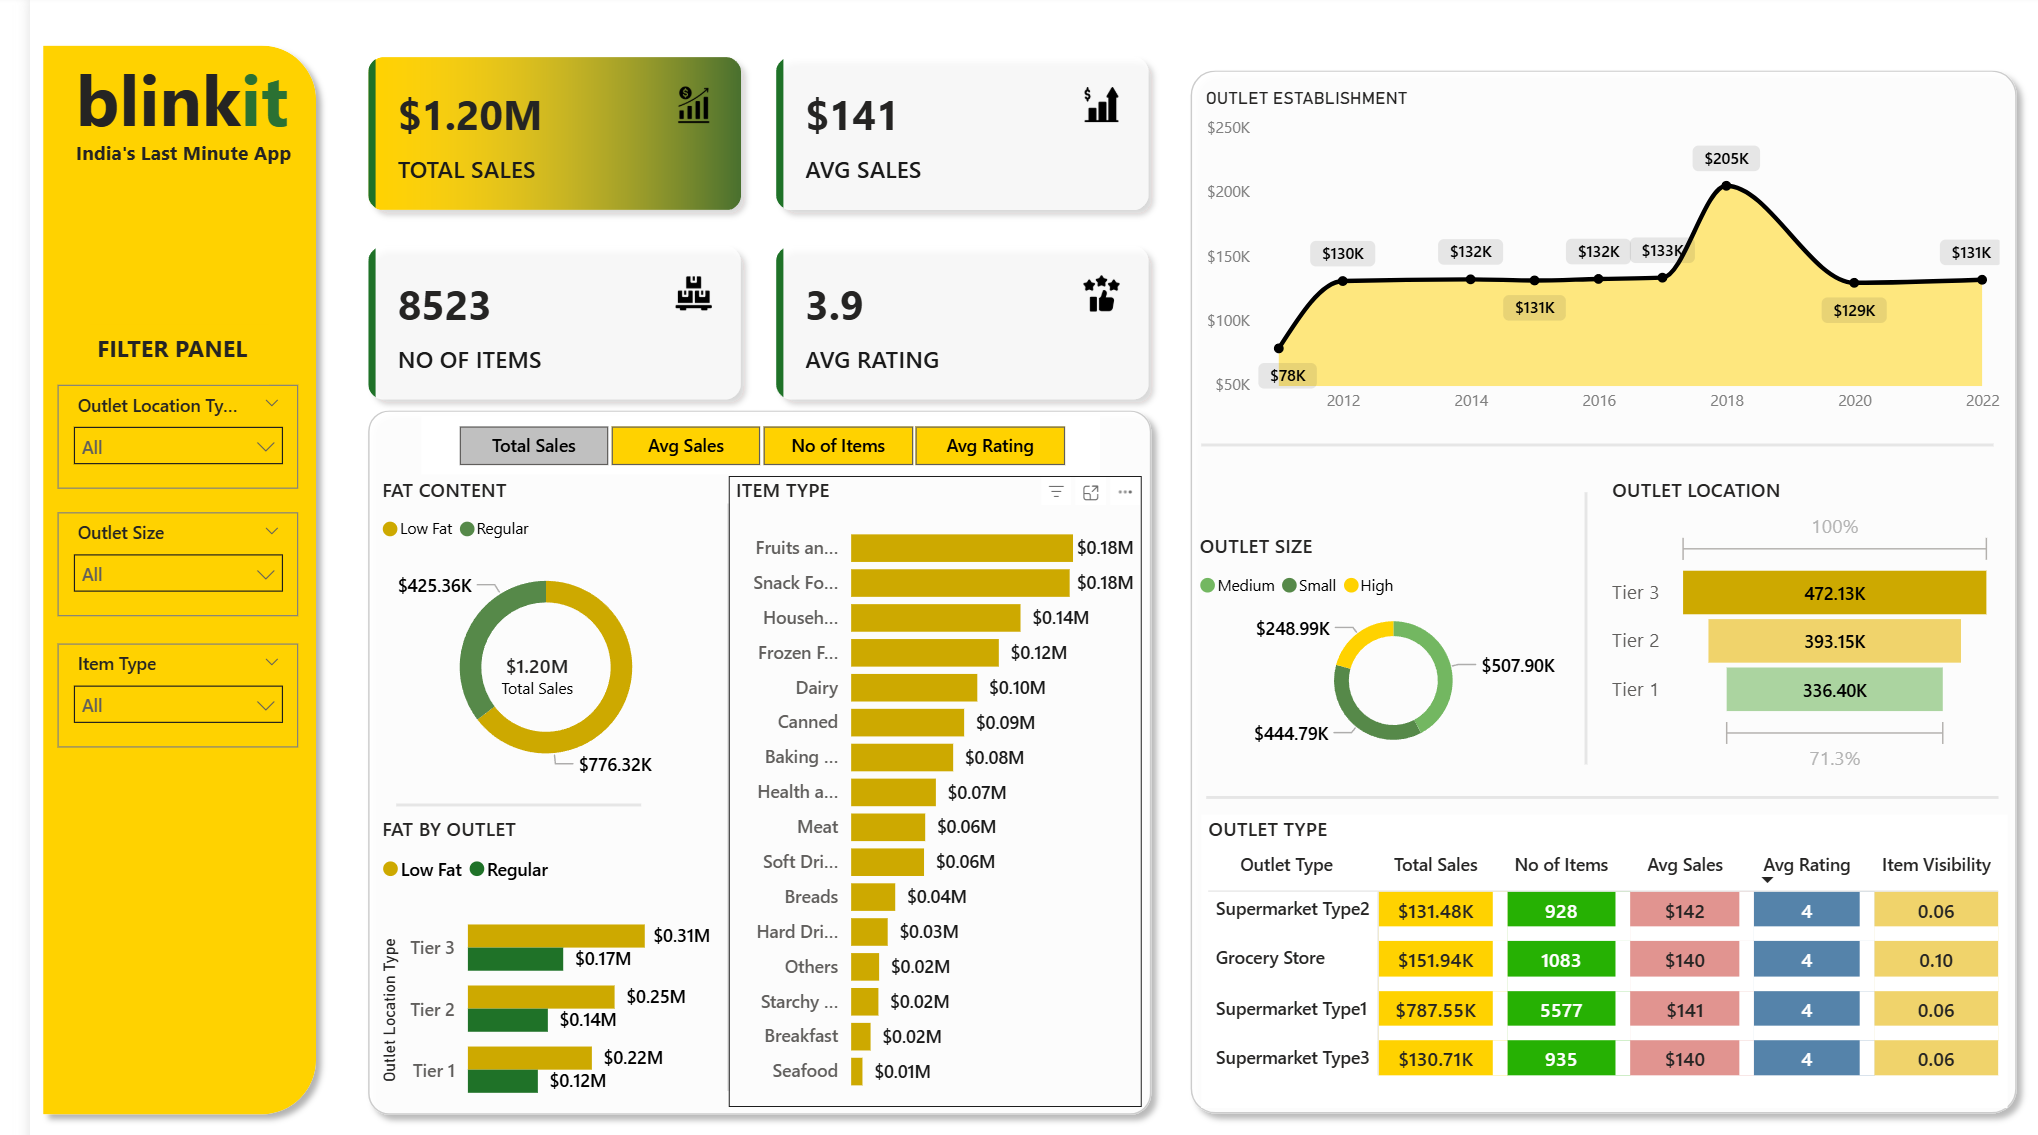

Layout of this report page (visuals, bound fields, positions):
{"tool":"powerbi","page":{"name":"Page 1","canvas":[1400,800],"ordinal":0},"visuals":[{"type":"shape","box":[0,24.7,204.8,749.9],"z":0},{"type":"textbox","box":[26.5,32.9,166.4,75.9],"z":1000},{"type":"textbox","box":[26.5,93.3,159.1,30.2],"z":2000},{"type":"cardVisual","fields":{"Data":["BlinkIT Grocery Data.Total Sales","BlinkIT Grocery Data.Avg Sales","BlinkIT Grocery Data.No of Items","BlinkIT Grocery Data.Avg Rating"]},"box":[214.9,24.7,569.7,269.8],"z":3000},{"type":"shape","box":[222.2,274.3,554.2,500.2],"z":4000},{"type":"slicer","title":"FAT CONTENT","fields":{"Values":["BlinkIT Grocery Data.Outlet Location Type"]},"box":[19.1,265.9,165,70.9],"z":5000},{"type":"slicer","fields":{"Values":["Metrics.Metrics"]},"box":[267.9,287.2,464.6,40.2],"z":6000},{"type":"cardVisual","fields":{"Data":["BlinkIT Grocery Data.Total Sales"]},"box":[300.9,432.6,92.4,61.3],"z":7000},{"type":"clusteredBarChart","title":"FAT BY OUTLET","fields":{"Y":["BlinkIT Grocery Data.Total Sales"],"Category":["BlinkIT Grocery Data.Outlet Location Type"],"Series":["BlinkIT Grocery Data.Item Fat Content"]},"box":[235.9,560.3,234.5,214],"z":8000},{"type":"shape","box":[250.9,548.1,167.7,12.3],"z":9000},{"type":"shape","box":[470.4,347.7,15,402.2],"z":10000},{"type":"barChart","title":"ITEM TYPE","fields":{"Y":["BlinkIT Grocery Data.Total Sales"],"Category":["BlinkIT Grocery Data.Item Type"]},"box":[478.5,328.6,282.2,432.2],"z":11000},{"type":"shape","box":[785.3,42.3,583.5,732.1],"z":12000},{"type":"lineChart","title":"OUTLET ESTABLISHMENT","fields":{"Y":["BlinkIT Grocery Data.Total Sales"],"Category":["BlinkIT Grocery Data.Outlet Establishment Year"]},"box":[800.3,62.7,553.5,231.8],"z":13000},{"type":"shape","box":[805.7,542.6,542.6,12.3],"z":14000},{"type":"donutChart","title":"OUTLET SIZE","fields":{"Y":["BlinkIT Grocery Data.Total Sales"],"Category":["BlinkIT Grocery Data.Outlet Size"]},"box":[796.2,366.7,275.4,158.1],"z":15000},{"type":"shape","box":[1057.9,339.5,15,186.8],"z":16000},{"type":"funnel","title":"OUTLET LOCATION","fields":{"Y":["Sum(BlinkIT Grocery Data.Sales)"],"Category":["BlinkIT Grocery Data.Outlet Location Type"]},"box":[1078.4,328.6,271.3,208.6],"z":17000},{"type":"shape","box":[801.6,301.3,542.6,12.3],"z":18000},{"type":"pivotTable","title":"OUTLET TYPE","fields":{"Rows":["BlinkIT Grocery Data.Outlet Type"],"Values":["BlinkIT Grocery Data.Total Sales","BlinkIT Grocery Data.No of Items","BlinkIT Grocery Data.Avg Sales","BlinkIT Grocery Data.Avg Rating","Avg(BlinkIT Grocery Data.Item Visibility)"]},"box":[801.6,560.3,552.2,200.4],"z":19000},{"type":"slicer","title":"FAT CONTENT","fields":{"Values":["BlinkIT Grocery Data.Outlet Size"]},"box":[19.1,353.1,165,70.9],"z":20000},{"type":"slicer","title":"FAT CONTENT","fields":{"Values":["BlinkIT Grocery Data.Item Type"]},"box":[19.1,443.1,165,70.9],"z":21000},{"type":"donutChart","title":"FAT CONTENT","fields":{"Y":["BlinkIT Grocery Data.Total Sales"],"Category":["BlinkIT Grocery Data.Item Fat Content"]},"box":[235.9,328.6,234.5,216.8],"z":22000},{"type":"textbox","box":[40.9,225,122.7,40.9],"z":22001}]}

Visuals, with their boxes in screenshot pixels (x1, y1, x2, y2), scaled from the page's 1400x800 canvas onto the 2038x1135 screenshot:
shape: <box>0,35,298,1099</box>
textbox: <box>39,47,281,154</box>
textbox: <box>39,132,270,175</box>
cardVisual - BlinkIT Grocery Data.Total Sales x BlinkIT Grocery Data.Avg Sales: <box>313,35,1142,418</box>
shape: <box>323,389,1130,1099</box>
"FAT CONTENT" slicer: <box>28,377,268,478</box>
slicer - Metrics.Metrics: <box>390,407,1066,464</box>
cardVisual - BlinkIT Grocery Data.Total Sales: <box>438,614,573,701</box>
"FAT BY OUTLET" clusteredBarChart: <box>343,795,685,1099</box>
shape: <box>365,778,609,795</box>
shape: <box>685,493,707,1064</box>
"ITEM TYPE" barChart: <box>697,466,1107,1079</box>
shape: <box>1143,60,1993,1099</box>
"OUTLET ESTABLISHMENT" lineChart: <box>1165,89,1971,418</box>
shape: <box>1173,770,1963,787</box>
"OUTLET SIZE" donutChart: <box>1159,520,1560,745</box>
shape: <box>1540,482,1562,747</box>
"OUTLET LOCATION" funnel: <box>1570,466,1965,762</box>
shape: <box>1167,427,1957,445</box>
"OUTLET TYPE" pivotTable: <box>1167,795,1971,1079</box>
"FAT CONTENT" slicer: <box>28,501,268,602</box>
"FAT CONTENT" slicer: <box>28,629,268,729</box>
"FAT CONTENT" donutChart: <box>343,466,685,774</box>
textbox: <box>60,319,238,377</box>
